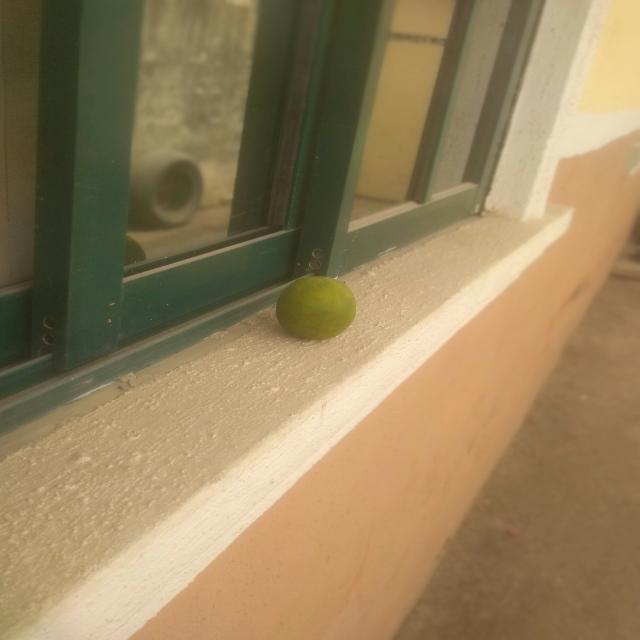Ripe orange: (259, 263, 395, 380)
